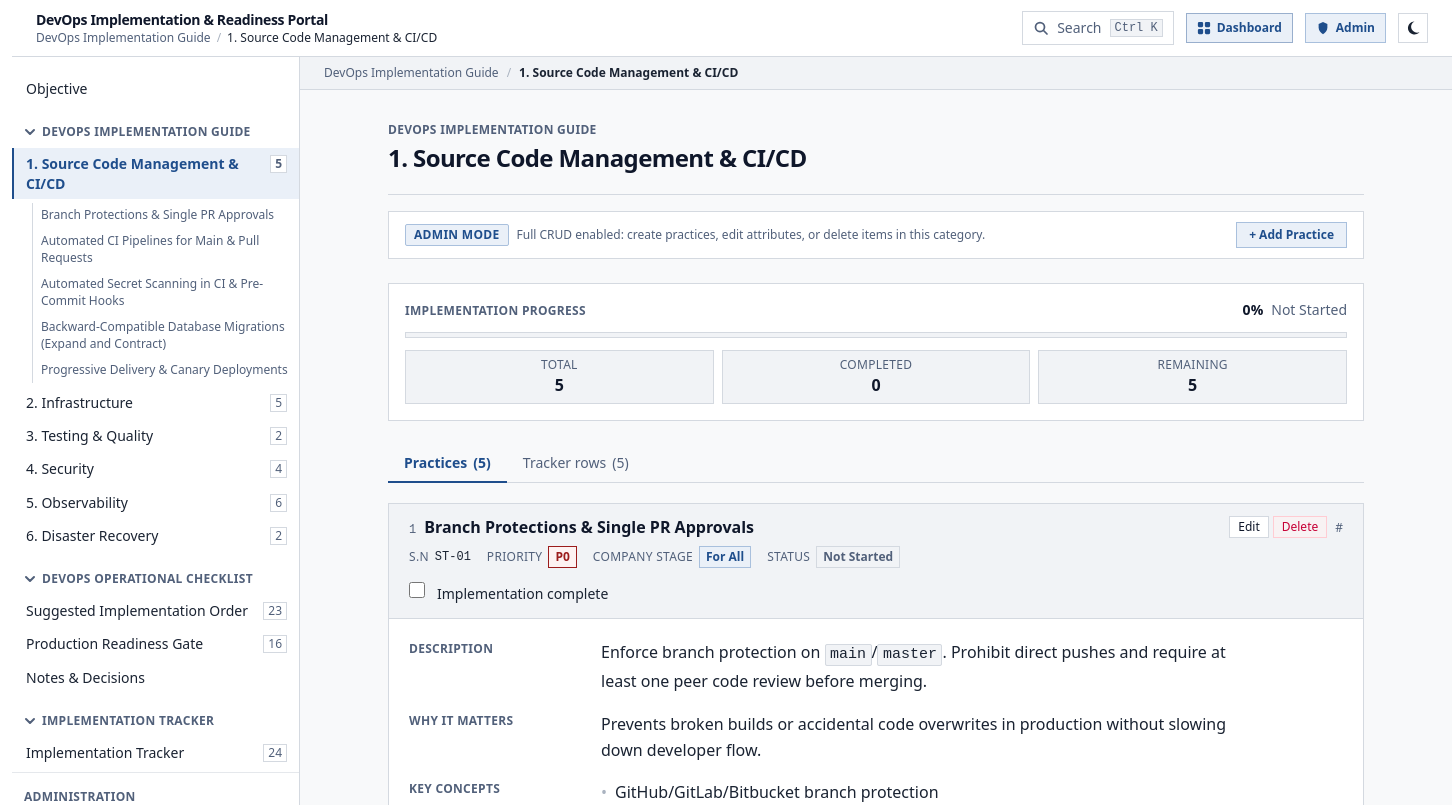
progress indicator › updates live as boxes are ticked
The image size is (1452, 805).
What coordinates should you click on to do the following:
click the checkbox
I would click on:
 (417, 590)
Its box is x1=409 y1=582 x2=425 y2=598.
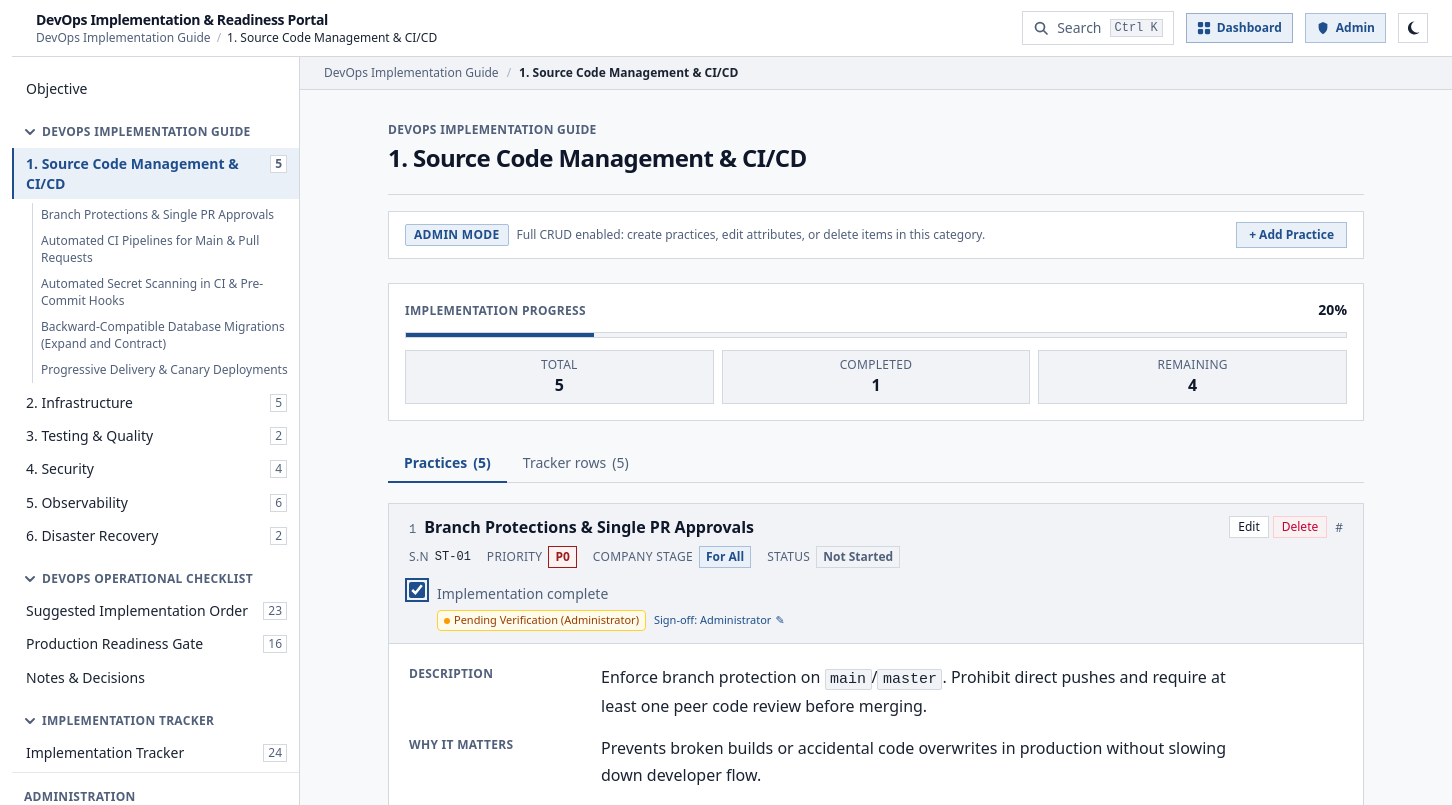
Expected: the text "20%" is shown, x1=1318 y1=300 x2=1347 y2=320
